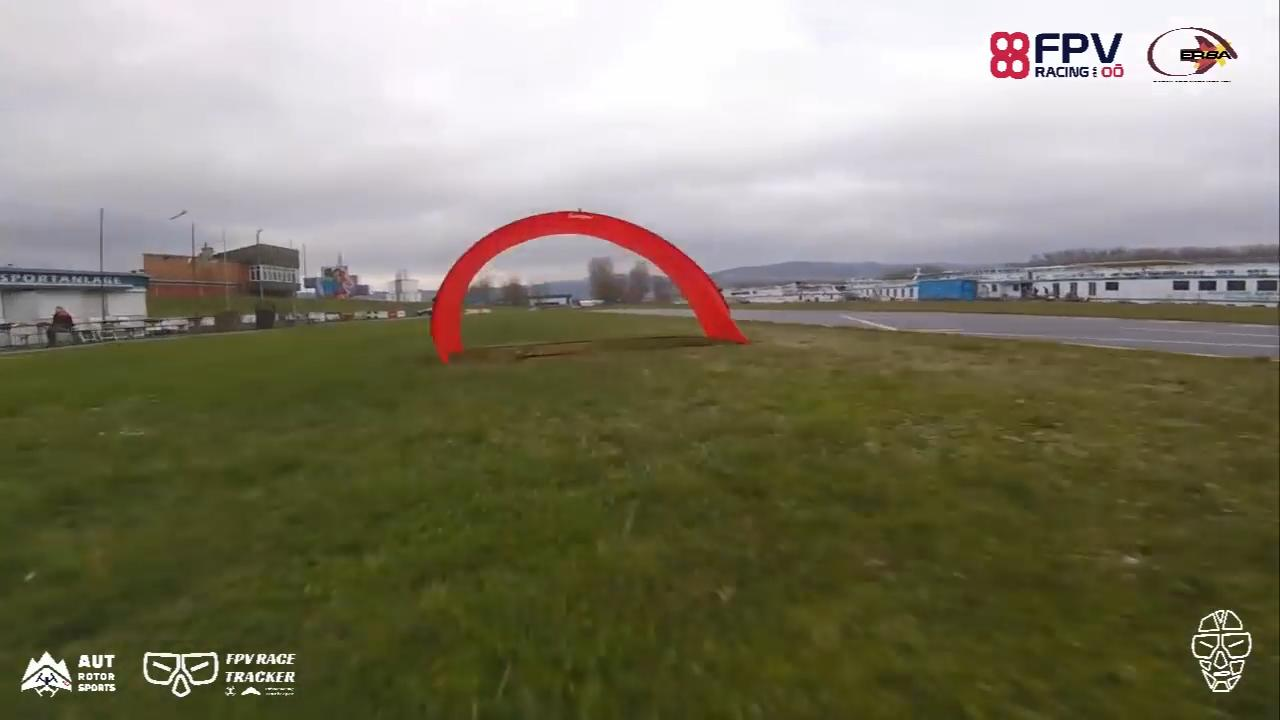gate: (425, 204, 753, 362)
